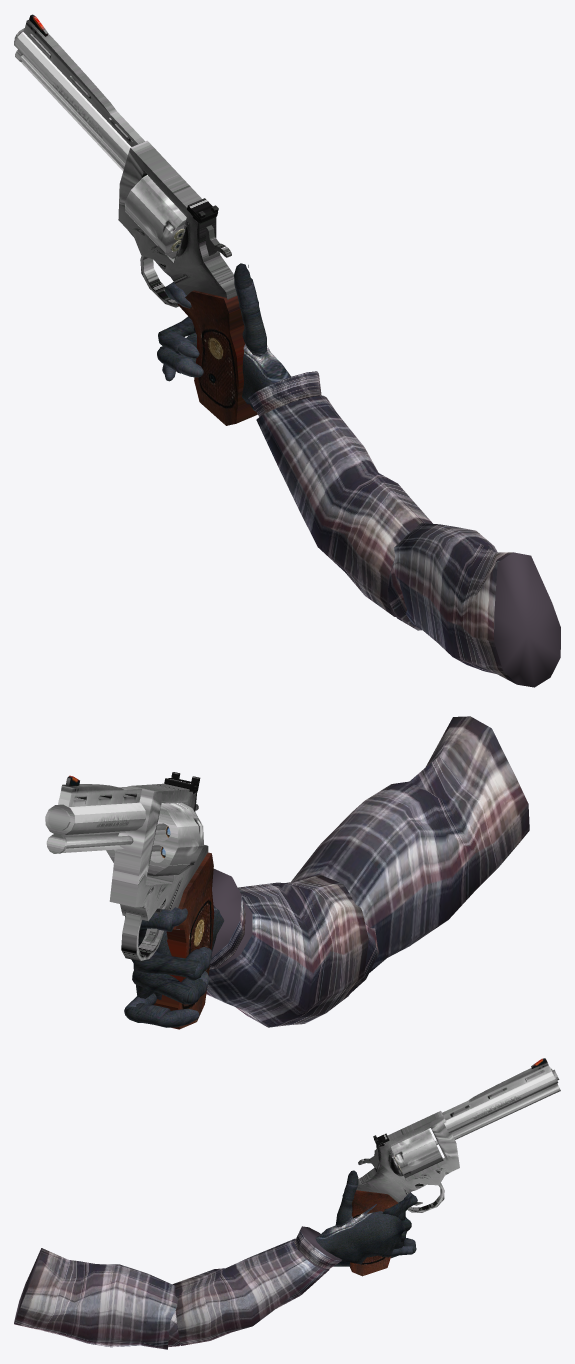
The model's file is anaconda_vfire.fbx.
3 renders of one model, top to bottom at view 1: azimuth 30°, elevation 25°; view 2: azimuth 150°, elevation 25°; view 3: azimuth 270°, elevation 25°, orthographic. The views are drawn at different scales.
Parts seen in each view (by area): view 1: rforearm, rupperarm, AnacondaBody, AnacondaGrip, AnacondaCylinder, AnacondaBarrel, AnacondaFrontSight, rhand, rthumbback; view 2: rupperarm, rforearm, AnacondaBody, AnacondaCylinder, AnacondaBarrel, AnacondaGrip, AnacondaFrontSight, AnacondaTriggerGuard, rmfingerback, rifingerback, rhand, rpinkymiddle (+6 smaller); view 3: rupperarm, rforearm, AnacondaBody, rhand, AnacondaBarrel, AnacondaCylinder, AnacondaGrip, AnacondaFrontSight, rthumbback, rpfingerback.
Boxes of the visible parts, x1,y1,x2,y2 form: rforearm: (248,371,432,617); rupperarm: (393,523,560,687); AnacondaBody: (118,140,237,299); AnacondaGrip: (177,290,257,425); AnacondaCylinder: (20,55,186,258); AnacondaBarrel: (14,28,131,171); AnacondaFrontSight: (23,14,144,146); rhand: (193,327,290,411); rthumbback: (240,306,267,356); rupperarm: (291,716,529,972); rforearm: (206,869,368,1027); AnacondaBody: (109,783,208,921); AnacondaCylinder: (66,802,203,876); AnacondaBarrel: (45,802,145,853); AnacondaGrip: (154,852,214,1029); AnacondaFrontSight: (58,775,141,807); AnacondaTriggerGuard: (121,912,163,961); rmfingerback: (135,945,199,977); rifingerback: (132,968,191,1004); rhand: (131,905,224,999); rpinkymiddle: (125,1003,170,1026); rupperarm: (14,1248,177,1349); rforearm: (172,1226,341,1345); AnacondaBody: (356,1111,459,1202); rhand: (315,1211,405,1266); AnacondaBarrel: (444,1068,560,1139); AnacondaCylinder: (391,1129,443,1178); AnacondaGrip: (350,1190,398,1276); AnacondaFrontSight: (442,1058,551,1120); rthumbback: (335,1198,376,1227); rpfingerback: (382,1195,417,1220).
Bounding box in the file's own units: 6.18 × 17.84 × 33.73.
3 materials, 3 textured.
